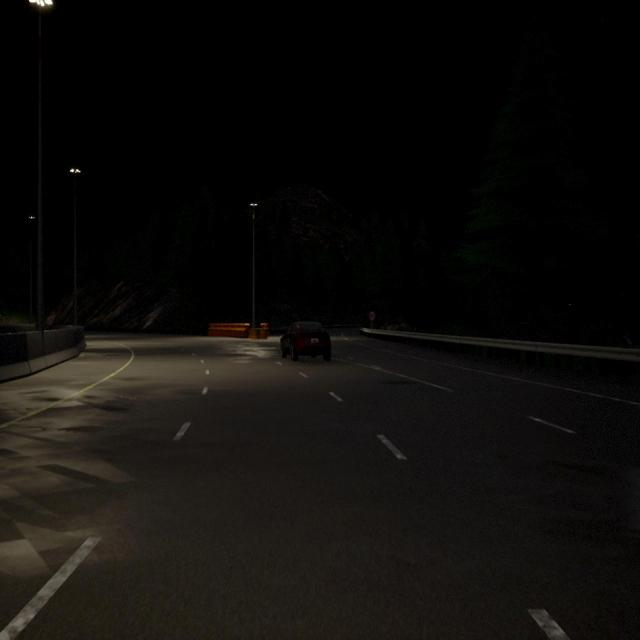Traffic_Signs: (369, 312, 375, 320)
Vehicle: (280, 321, 331, 361)
